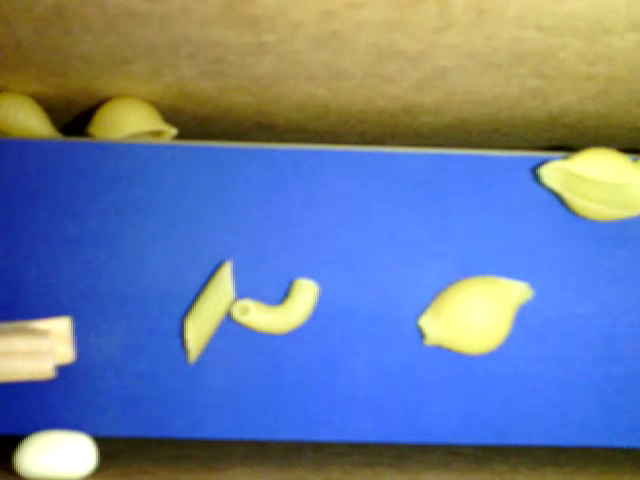elbow: (230, 274, 321, 339)
penne: (177, 255, 234, 366)
shell: (417, 272, 532, 356), (534, 144, 639, 222), (87, 94, 177, 142), (1, 80, 63, 139)
